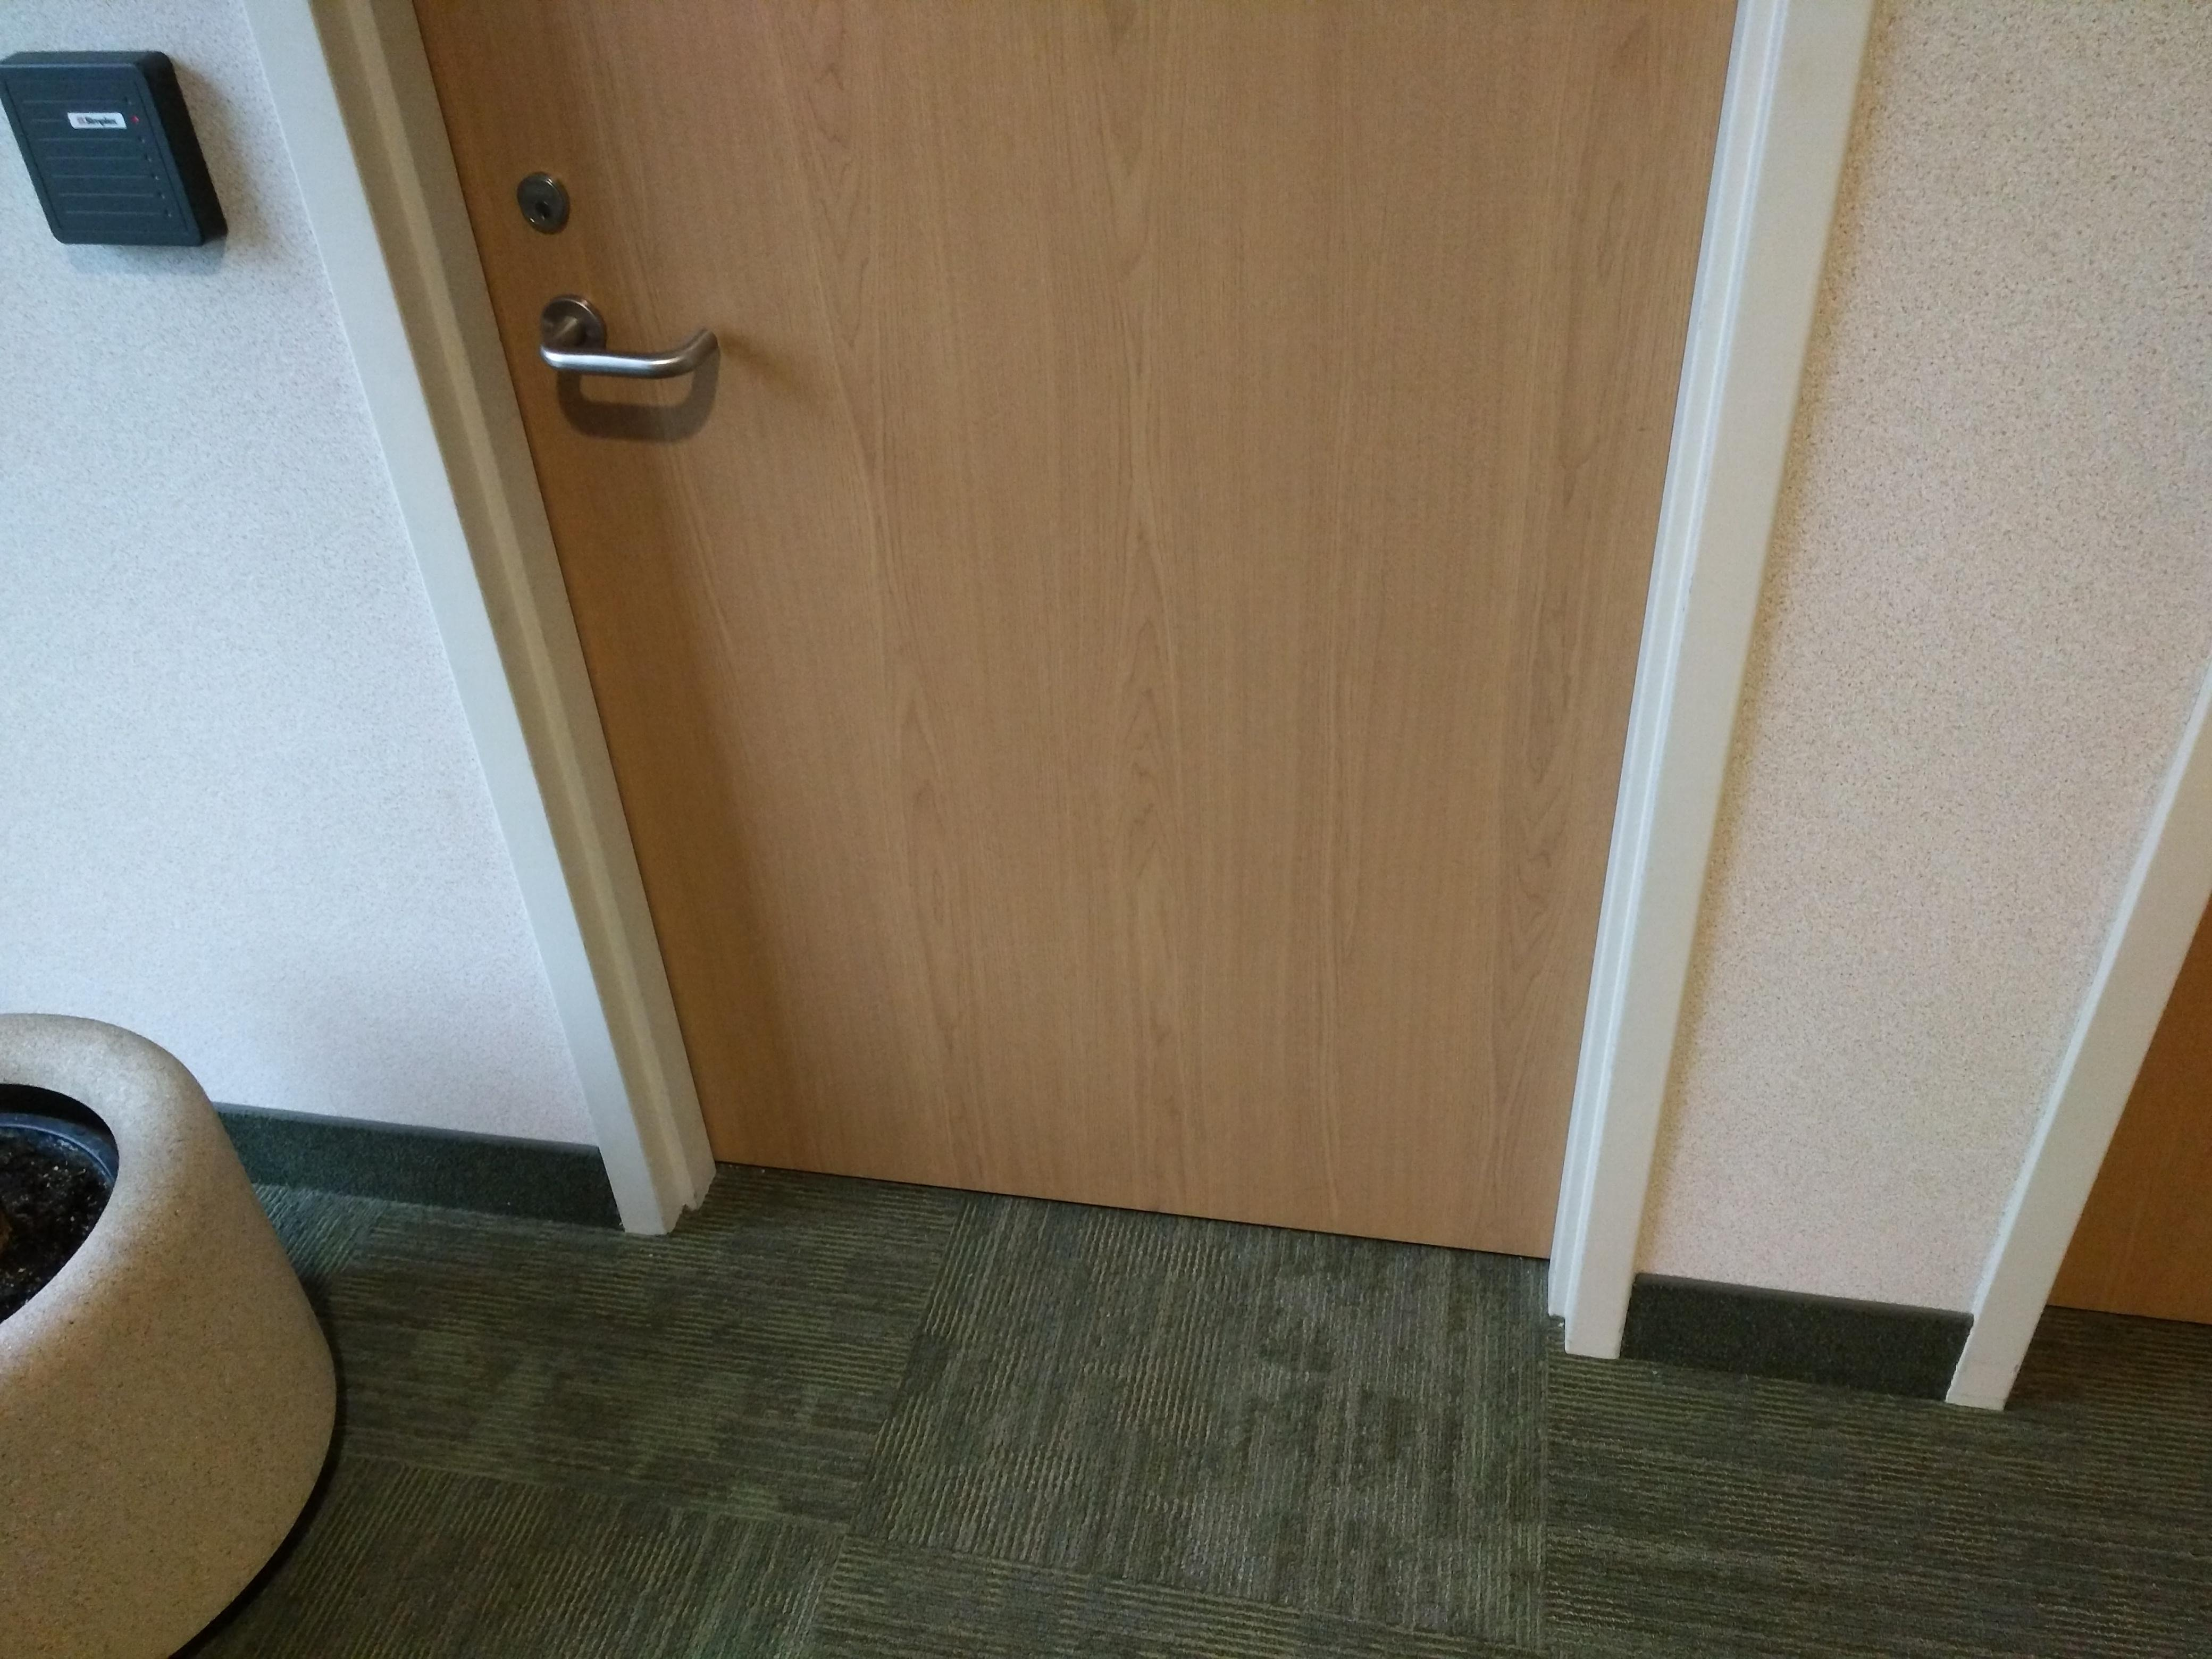door: (449, 0, 1608, 1284)
